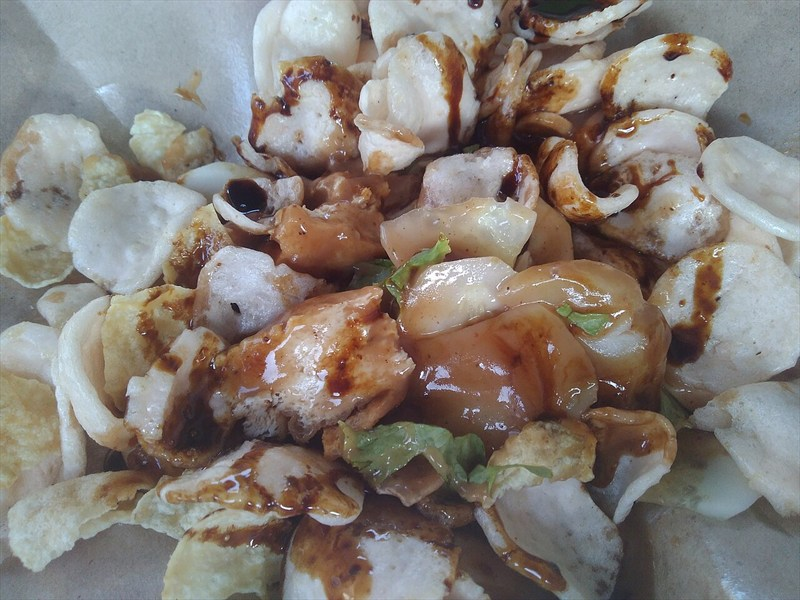Gado-Gado: (142, 39, 683, 516)
